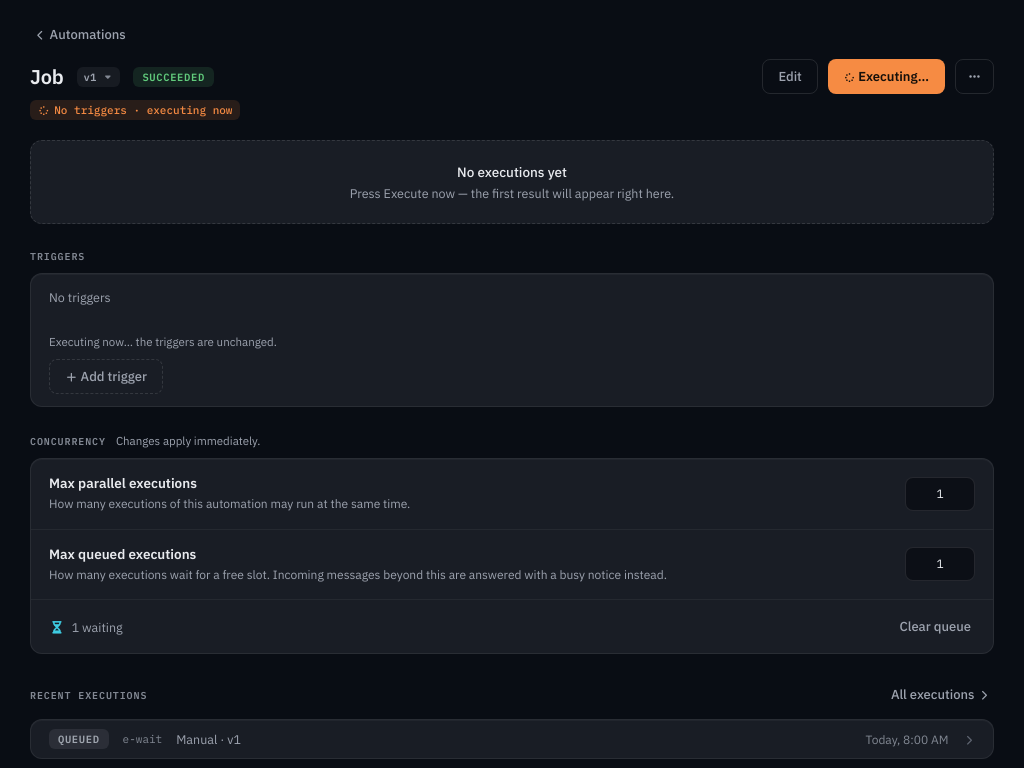
Test: §9.2 capacity popup › slots and queue both full → capacity-full notice, no run or queue option
The width and height of the screenshot is (1024, 768).
Click the button "Executing…": point(886, 76) [828,59,945,94]
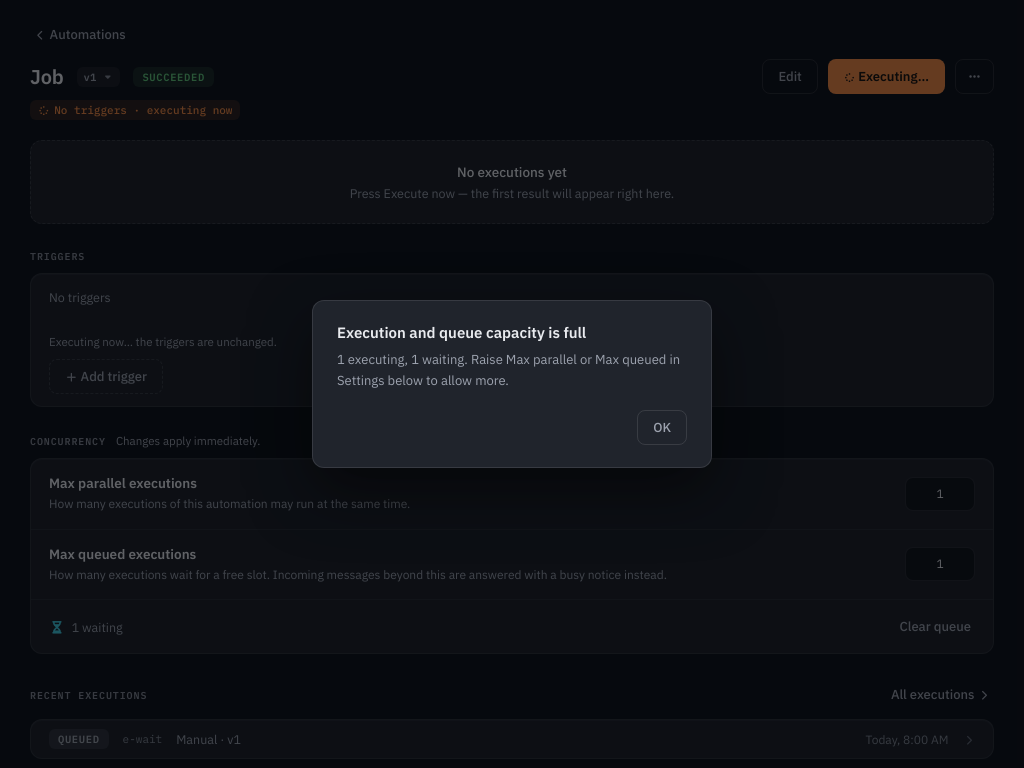
Expected: the text "Execution and queue capacity is full" is shown, [337,323,586,342]
Expected: the text "1 executing, 1 waiting." is shown, [337,351,468,368]
Click the button "OK": point(662, 427) [637,410,687,445]
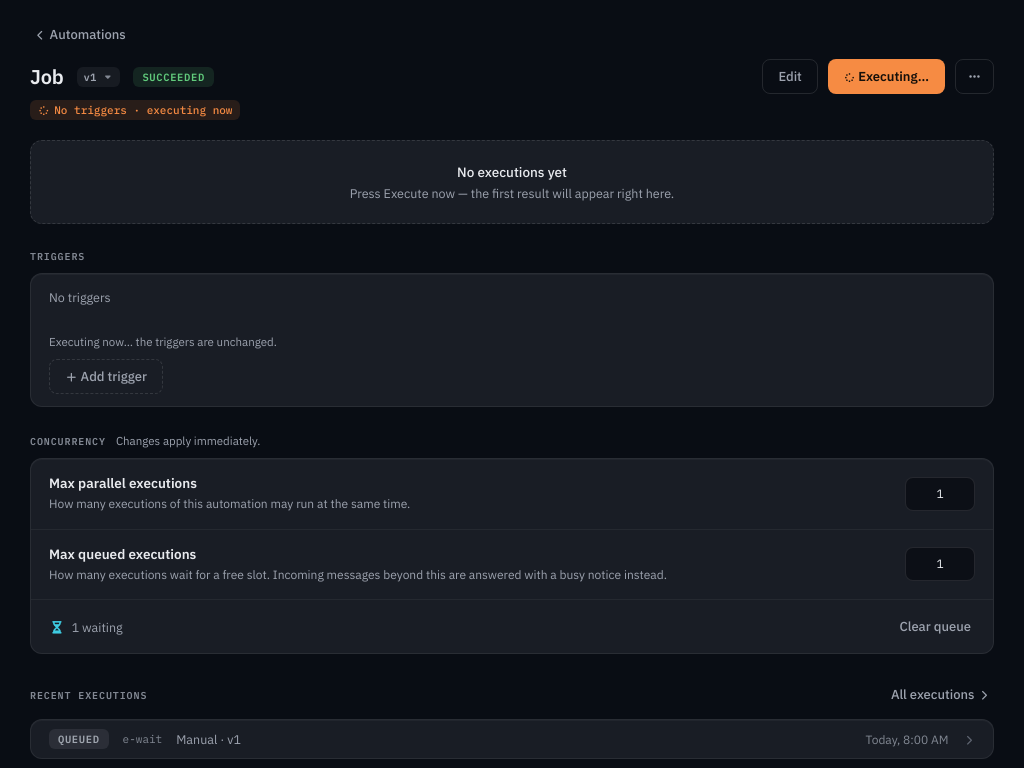
Expected: the text "Execution and queue capacity is full" is gone
